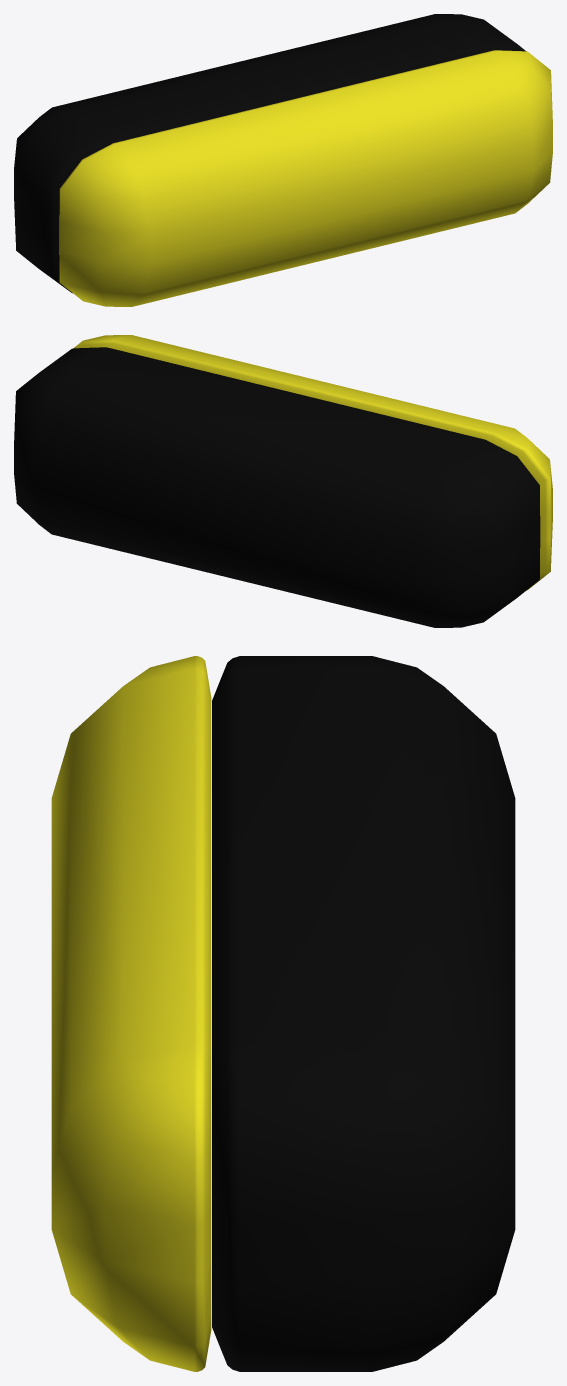
File: lights.FBX
3 renders of one model, top to bottom at view 1: azimuth 30°, elevation 25°; view 2: azimuth 150°, elevation 25°; view 3: azimuth 270°, elevation 25°, orthographic. The views are drawn at different scales.
Parts seen in each view (by area): view 1: ChamferBox001, Lights; view 2: Lights, ChamferBox001; view 3: Lights, ChamferBox001.
Part boxes in pixels (<box>): ChamferBox001: <box>59,50,552,306</box>; Lights: <box>14,14,525,293</box>; Lights: <box>14,347,540,627</box>; ChamferBox001: <box>73,335,552,590</box>; Lights: <box>212,656,515,1371</box>; ChamferBox001: <box>51,656,211,1371</box>.
Bounding box in the file's own units: 84.72 × 26.03 × 34.59.
